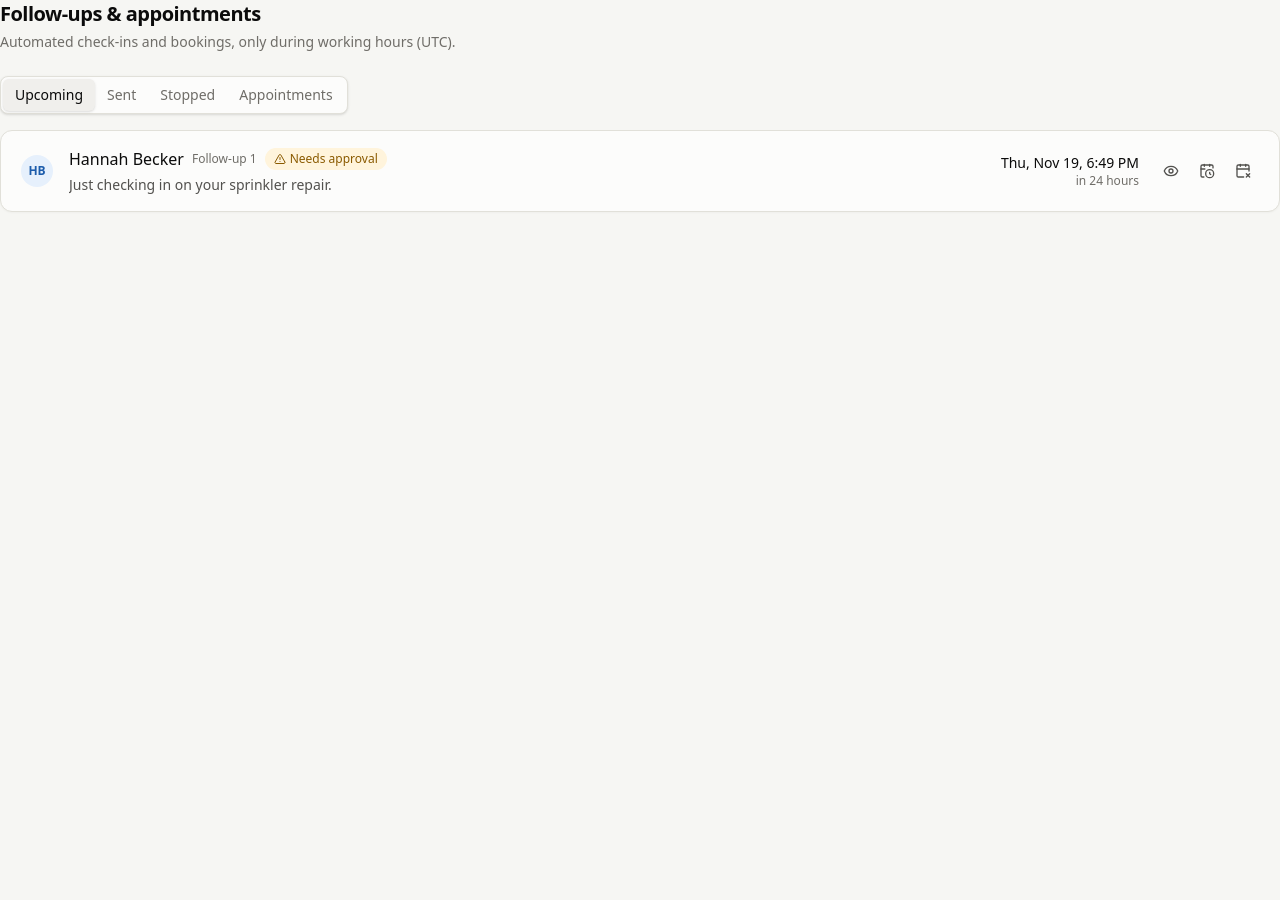
Follow-ups › lets owners approve a draft from the preview, but not members
Click the button named "Preview follow-up to Hannah Becker": point(1171, 171) [1155, 155, 1187, 187]
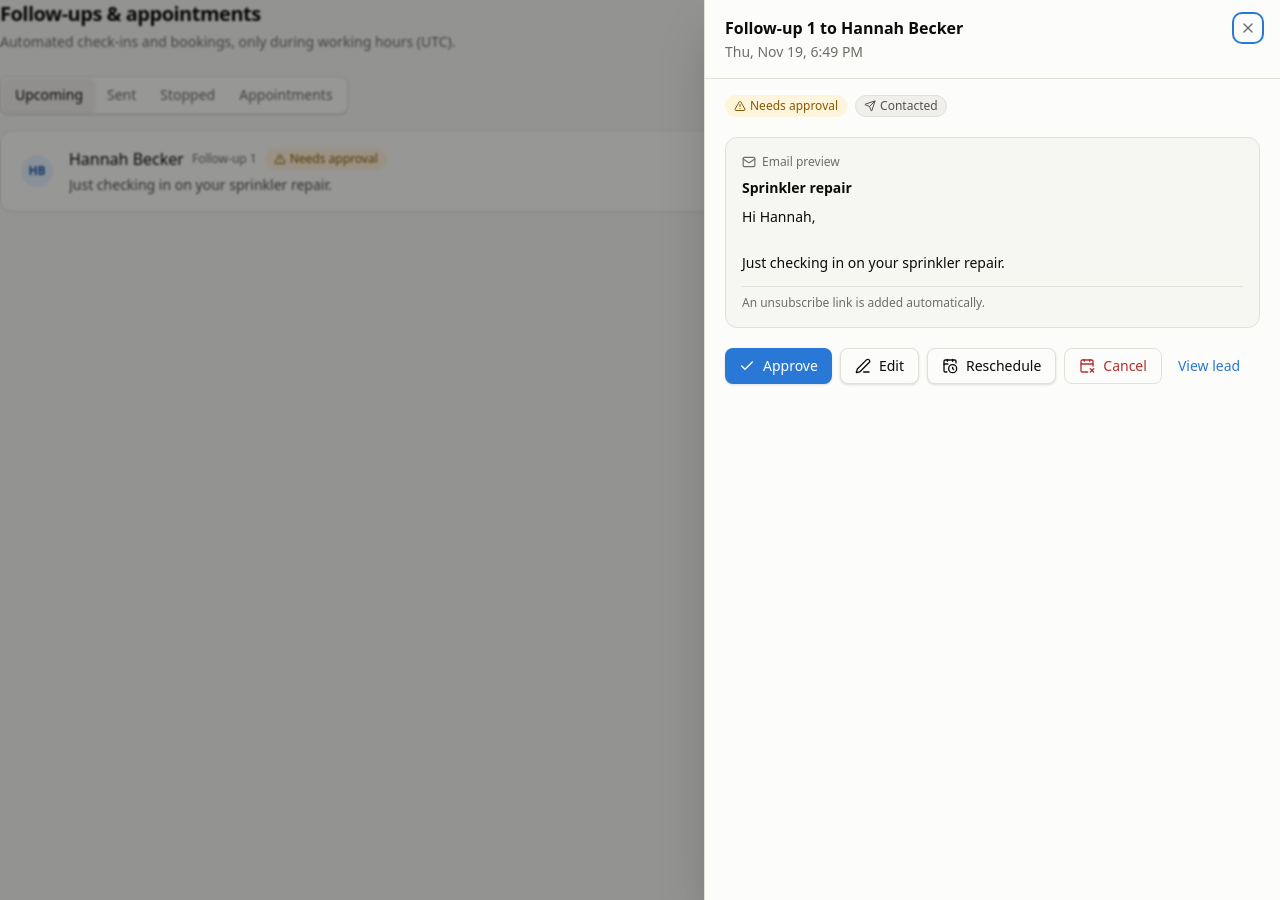
Click the button "Approve": point(778, 366) [725, 348, 832, 384]
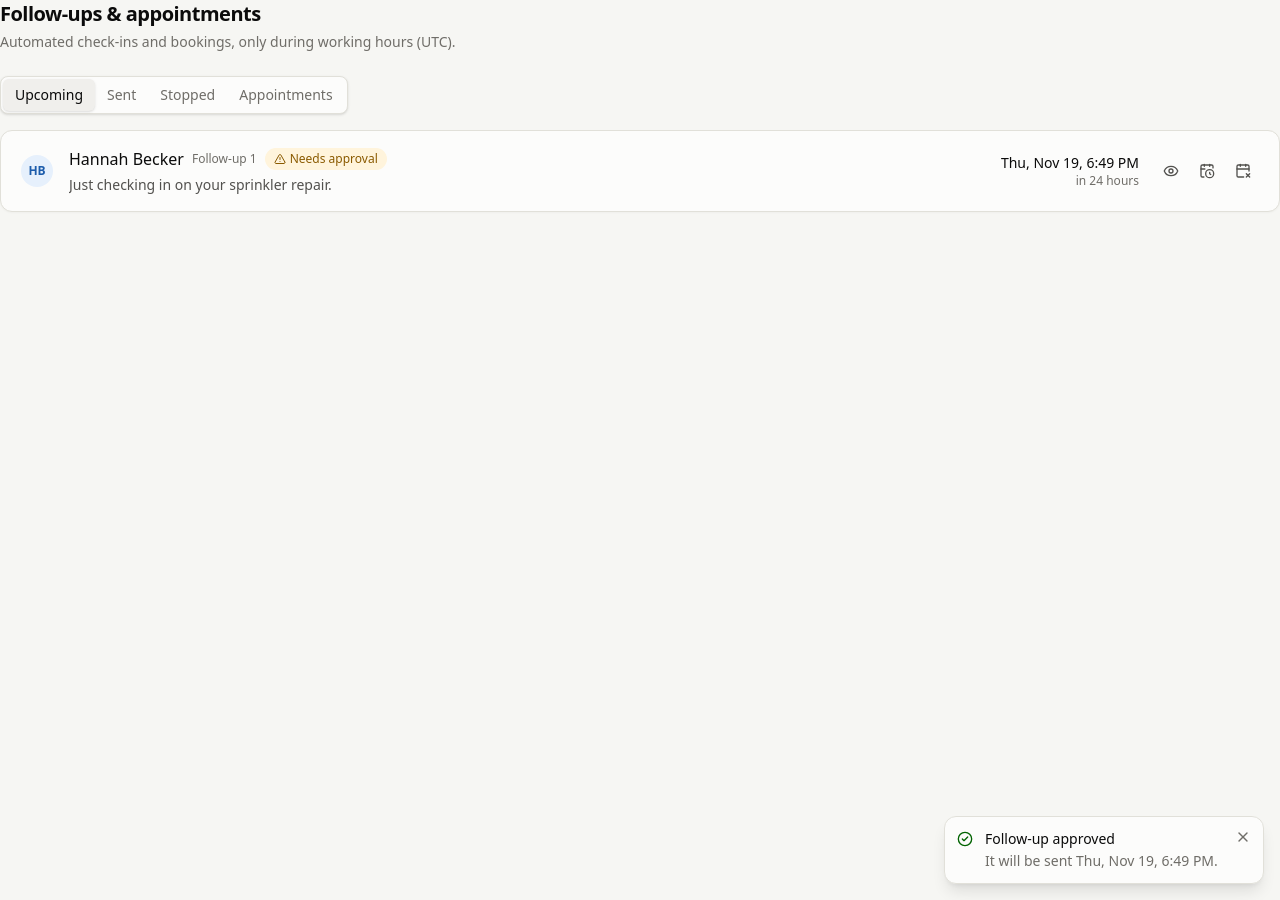
Now the text "Follow-up approved" is shown, box [985, 829, 1115, 848]
